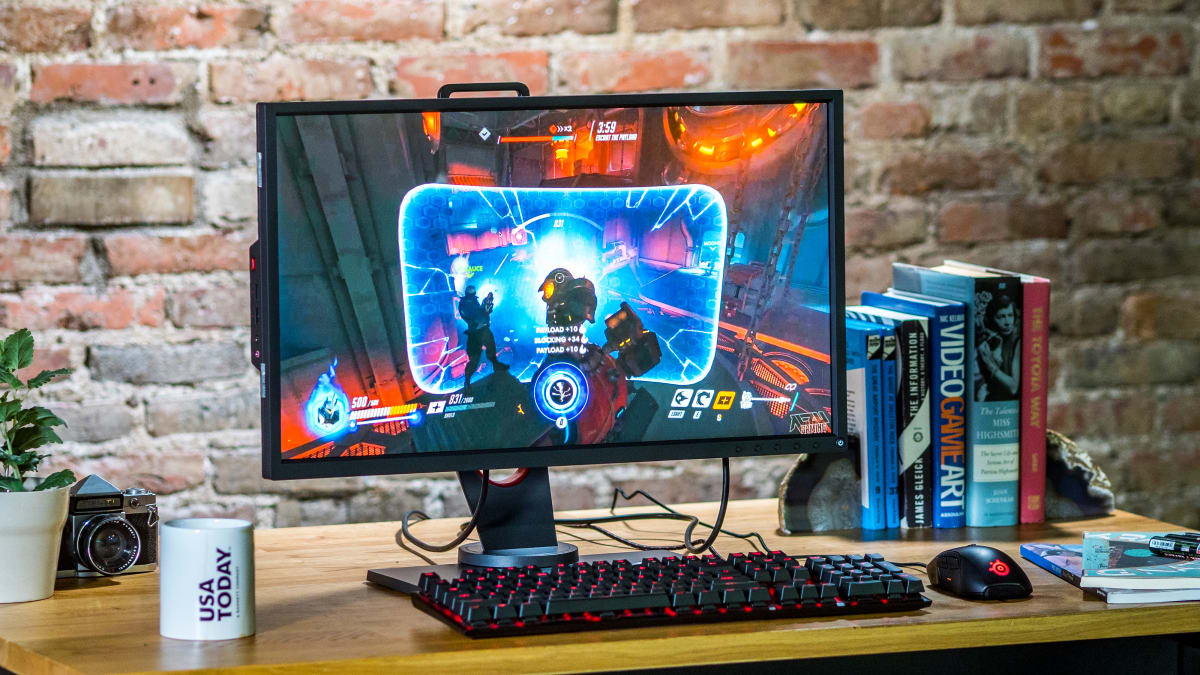keyboard: (403, 538, 931, 647)
monitor: (230, 88, 870, 510)
mouse: (916, 539, 1047, 612)
